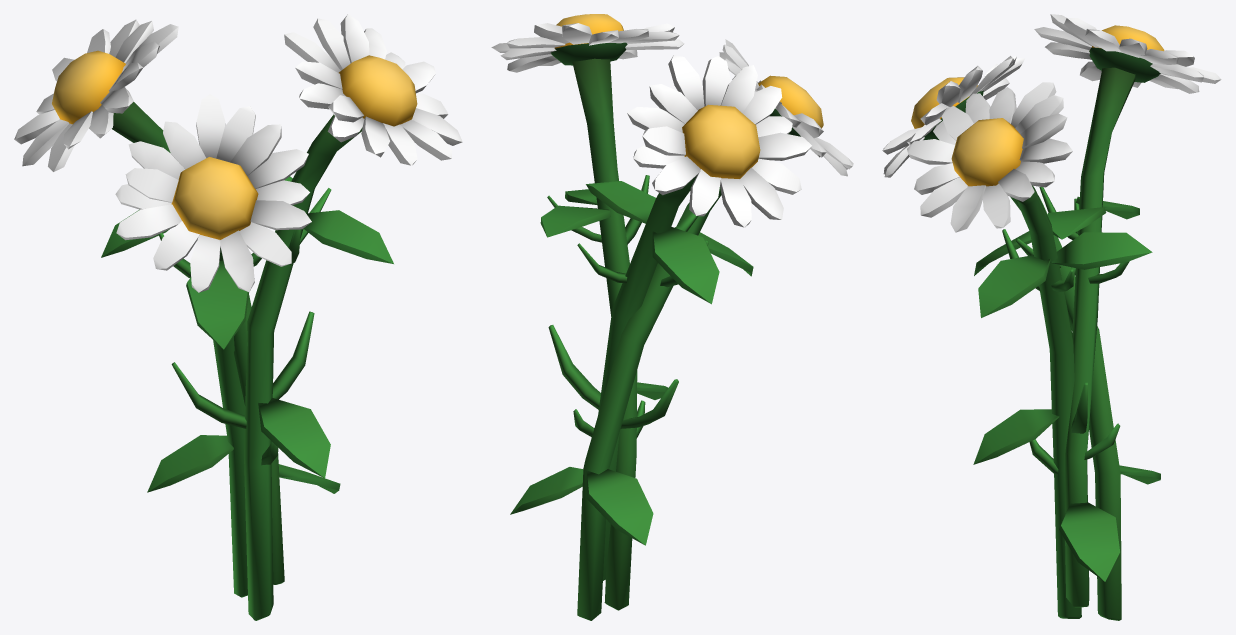
File: SM_Daisy_A.fbx
The picture shows the model from 3 angles, left to right: view 1: azimuth 30°, elevation 25°; view 2: azimuth 150°, elevation 25°; view 3: azimuth 270°, elevation 25°; orthographic projection. The views are drawn at different scales.
Visible parts, largest first — view 1: SM_Daisy_A; view 2: SM_Daisy_A; view 3: SM_Daisy_A.
Part boxes in pixels (x1,y1,x2,y2): SM_Daisy_A: (14, 14, 462, 620); SM_Daisy_A: (491, 14, 853, 620); SM_Daisy_A: (882, 14, 1221, 620).
Size of the model in its own units: 20.48 by 32.87 by 18.12.
